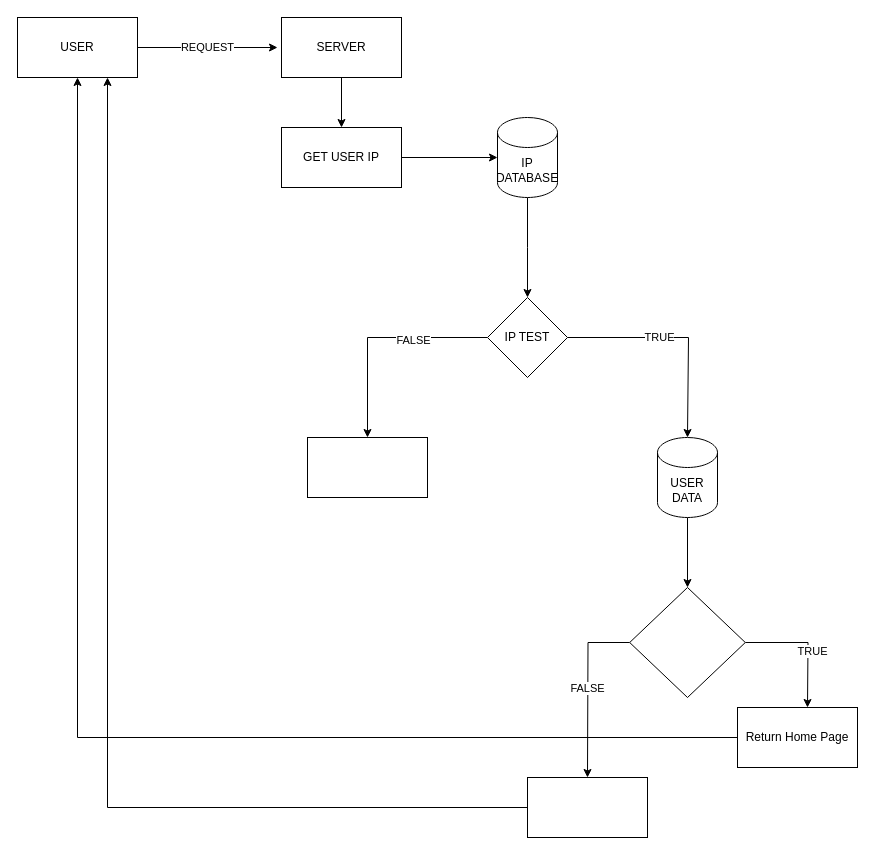
Image size: 875x855. Some labels were removed from this diagram. The shapes that lost their labels are listed below. From the top down, each one's centre as x and y in pixels, then its label:
[367,467]: Error! IP already in use multiple same IP reuquests
[687,642]: EMAIL AND PASSWORD CHECK
[587,807]: Return "wrong email/password)
